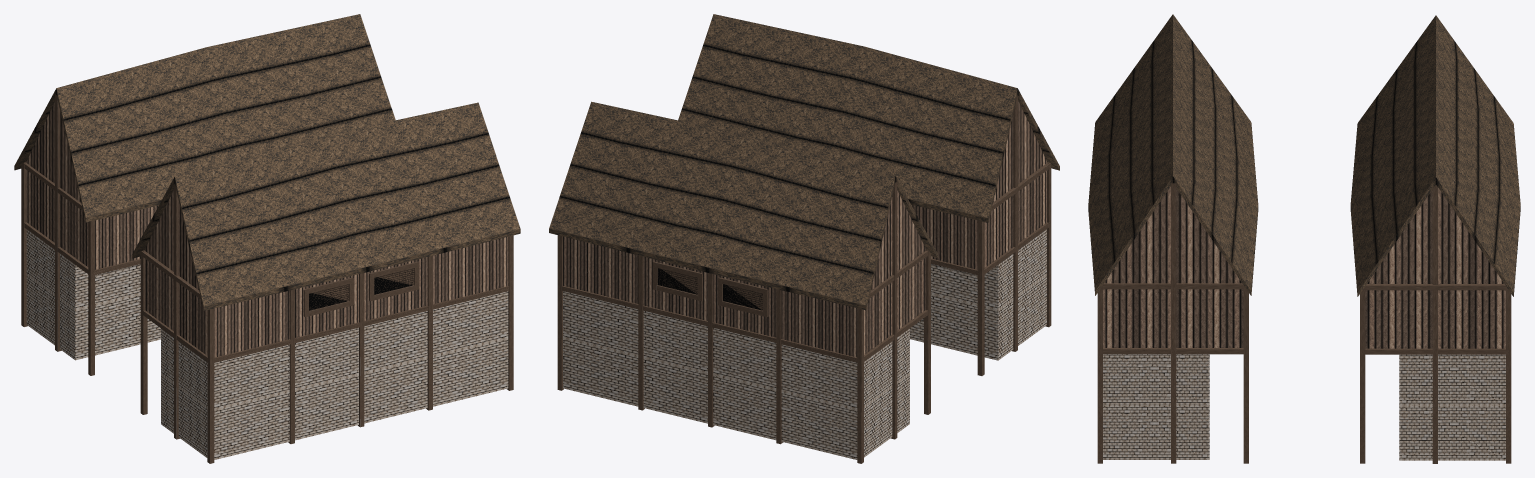
File: east_market.dae
3 renders of one model, left to right at view 1: azimuth 30°, elevation 25°; view 2: azimuth 150°, elevation 25°; view 3: azimuth 270°, elevation 25°, orthographic. The views are drawn at different scales.
Visible parts, largest first — view 1: Cube.036; view 2: Cube.036; view 3: Cube.036.
Part boxes in pixels (<box>): Cube.036: <box>14,14,520,463</box>; Cube.036: <box>549,14,1059,463</box>; Cube.036: <box>1088,14,1520,463</box>.
Bounding box in the file's own units: 23.24 × 24.95 × 18.59.
